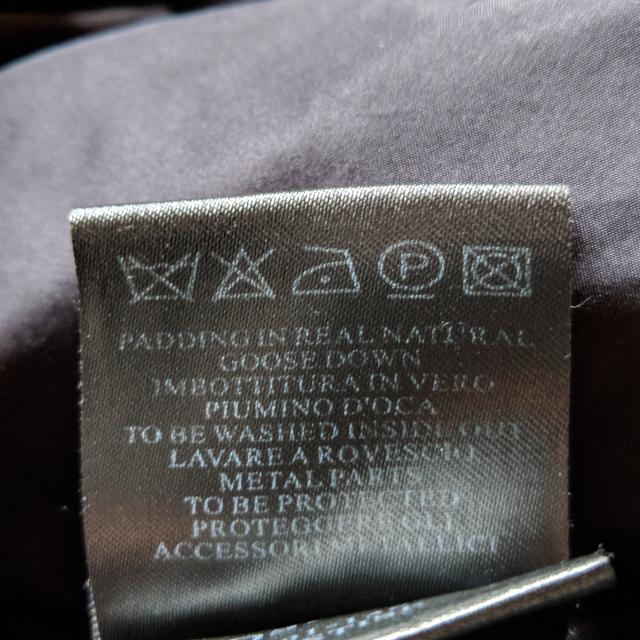DN_bleach: (210, 246, 278, 304)
DN_tumble_dry: (456, 244, 538, 300)
DN_wash: (119, 247, 209, 306)
dry_clean_any_solvent_except_trichloroethylene: (377, 240, 446, 298)
iron_low: (292, 244, 365, 302)
